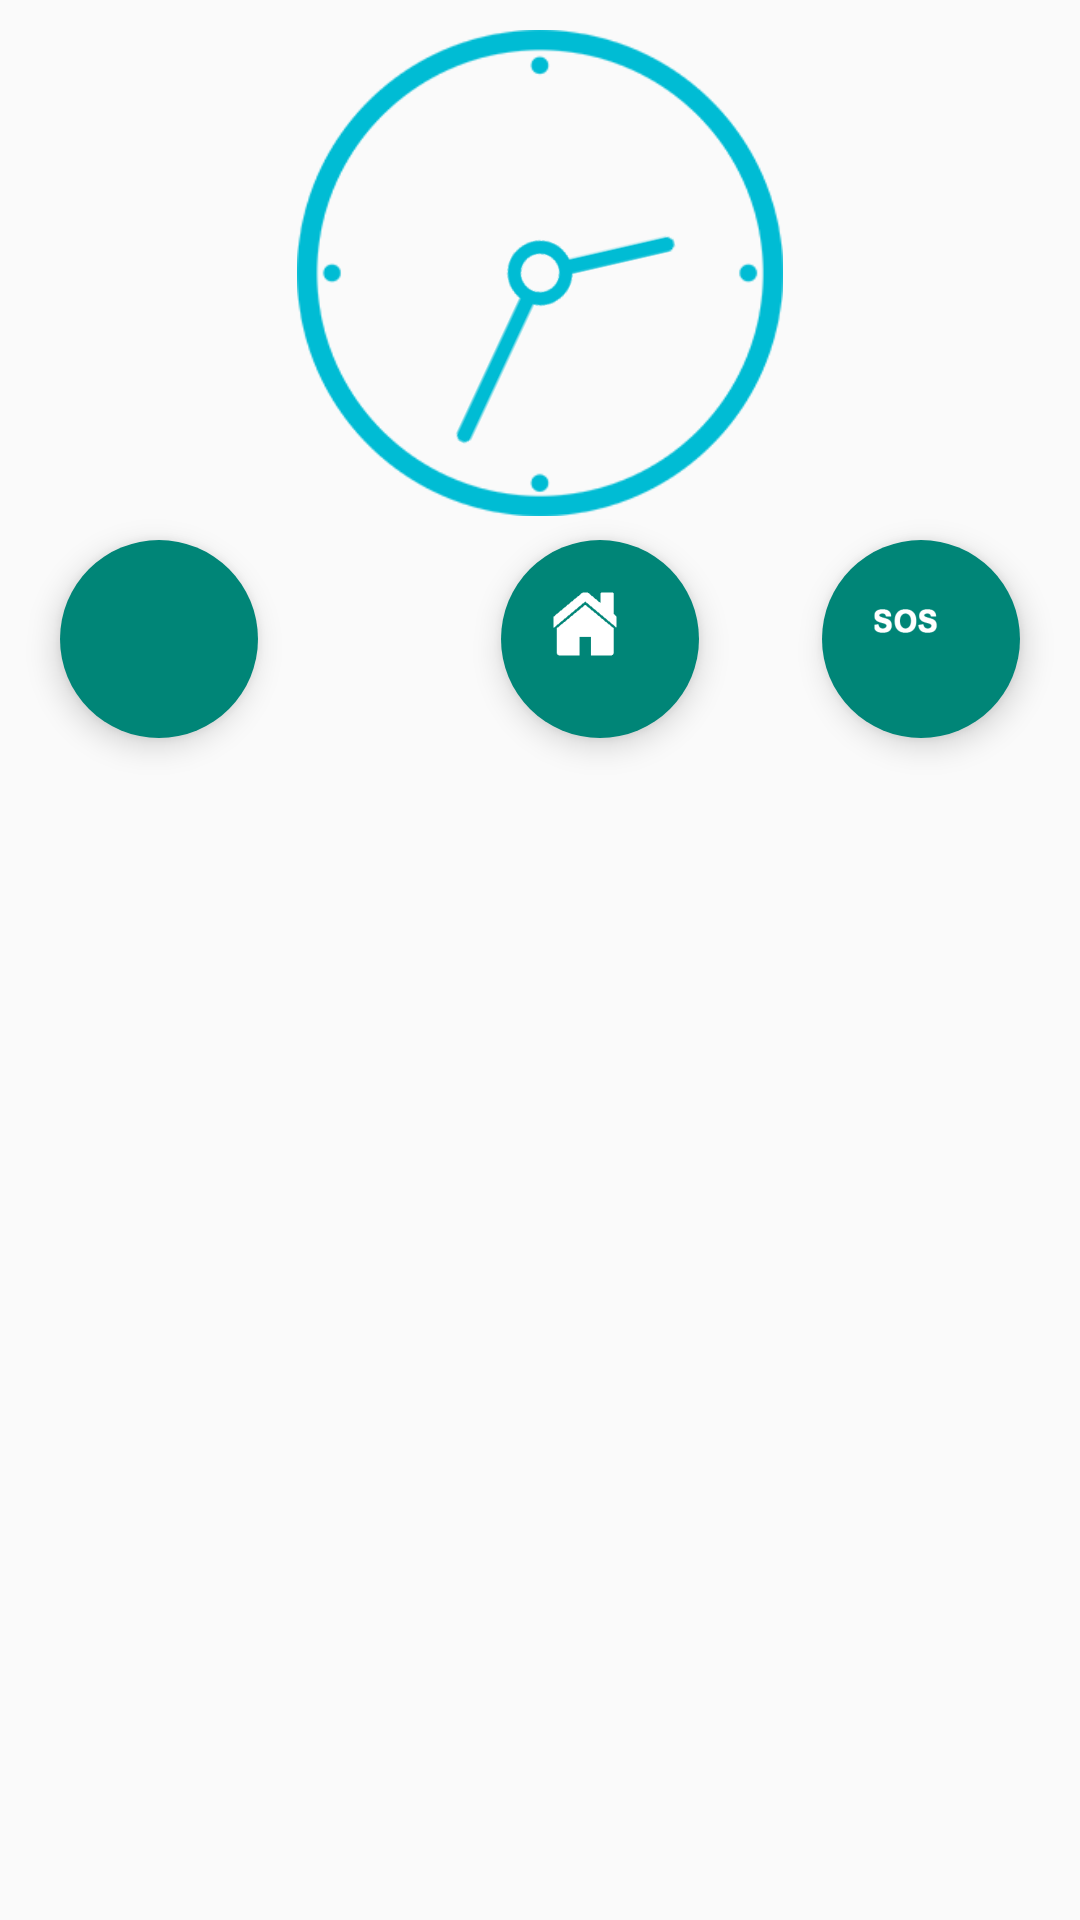

Screen size 1080×1920. Icon name, then its box in pixels as {"left": x1, "top": y1, "right": x2, "bottom": y2}:
fab home: {"left": 501, "top": 540, "right": 699, "bottom": 738}
